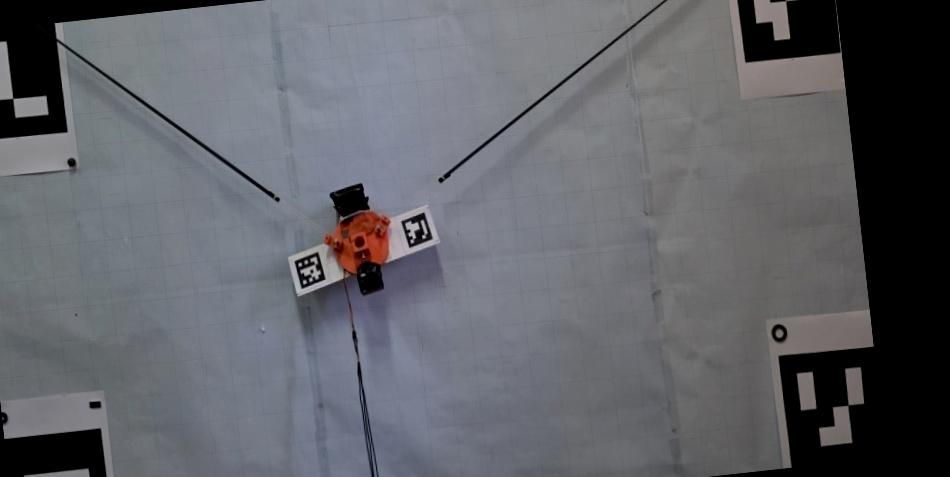robot: (324, 183, 392, 298)
